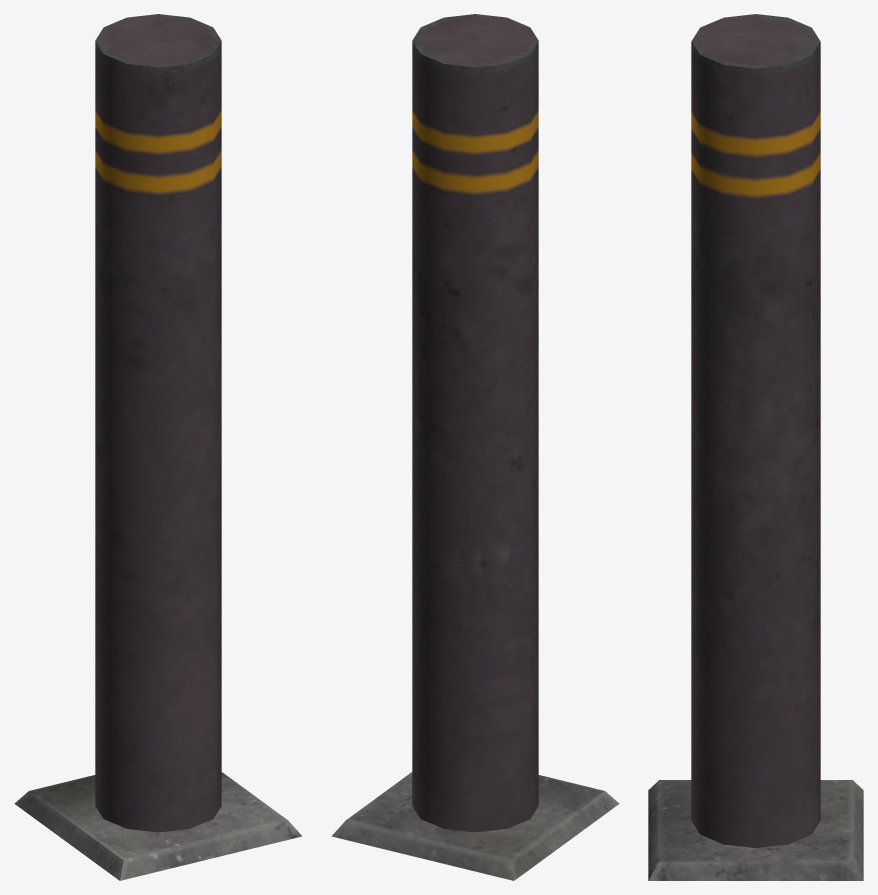
The model's file is jctPoleB.fbx.
The picture shows the model from 3 angles, left to right: view 1: azimuth 30°, elevation 25°; view 2: azimuth 150°, elevation 25°; view 3: azimuth 270°, elevation 25°; orthographic projection.
Visible parts, largest first — view 1: jctPoleB; view 2: jctPoleB; view 3: jctPoleB.
Part boxes in pixels (bbox=[...]): jctPoleB: bbox=[14, 14, 302, 880]; jctPoleB: bbox=[331, 14, 619, 880]; jctPoleB: bbox=[648, 14, 863, 880].
Size of the model in its own units: 20 by 81.5 by 20.
